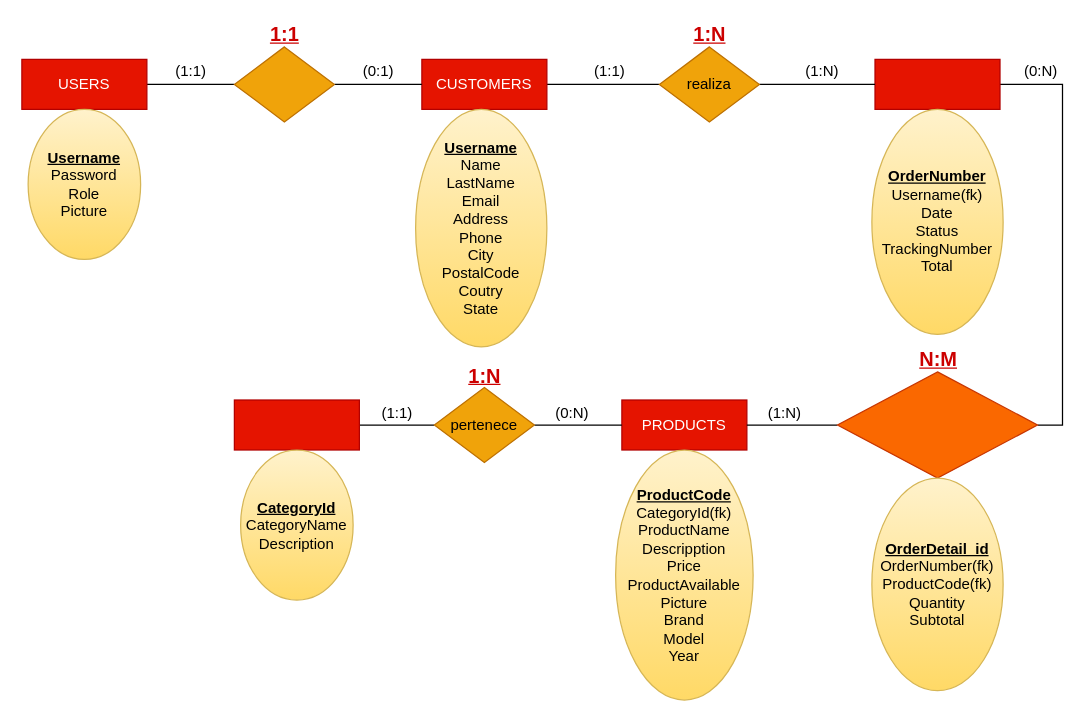
Some shapes in this 1088 by 721 pixel diagram are drawn without their labels. Each missing label, with the centre of its shape:
"CATEGORIES" belongs at [296,424].
"contiene (ORDER_DETAILS)" belongs at [937,424].
"es" belongs at [283,84].
"ORDERS" belongs at [937,83].
